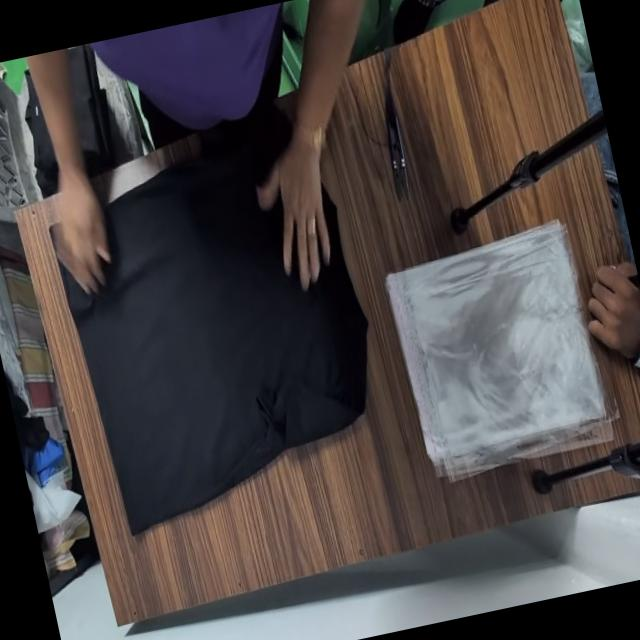new-garment: (62, 120, 366, 534)
